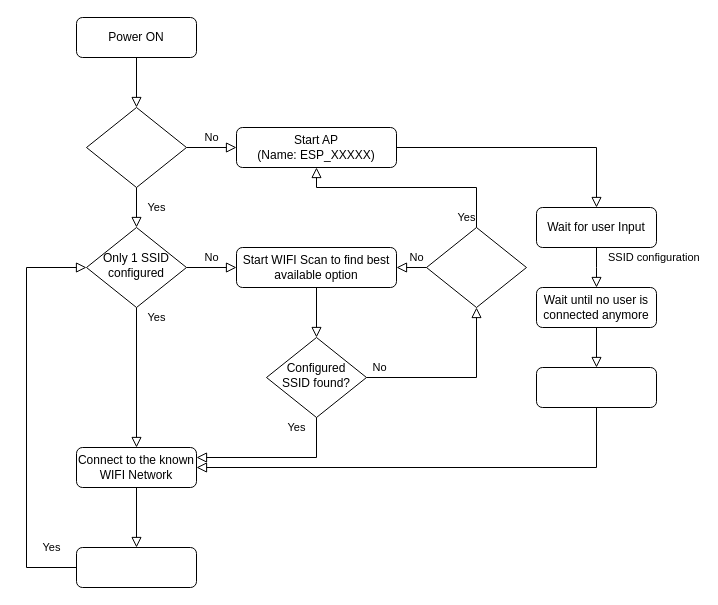
The diagram is 718 pixels wide and 605 high, and some of its shapes have lost their labels. The centre of each missing label's shape, as x and y in pixels:
"Disconnected from WIFI network" goes at pixel 136 567.
"Fallback to softAP enabled?" goes at pixel 476 267.
"SSID configuration stored?" goes at pixel 136 147.
"Stop AP" goes at pixel 596 387.
